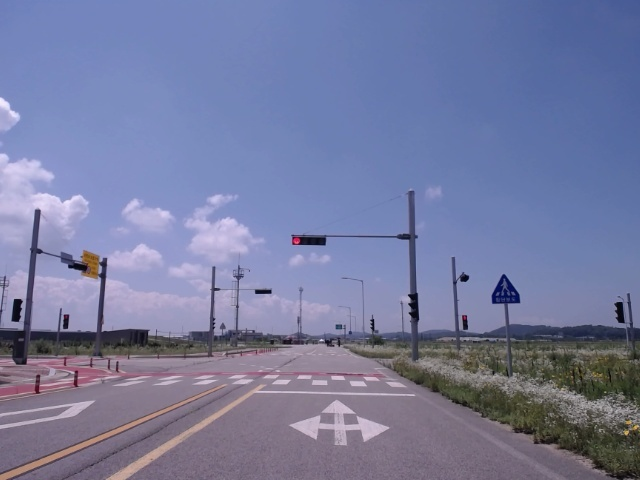red_4: (292, 236, 326, 246)
